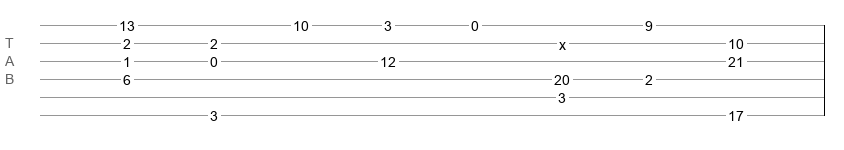0: (210, 54, 218, 64), (471, 18, 479, 28)
1: (123, 54, 131, 64)
10: (293, 18, 309, 28), (728, 36, 744, 46)
12: (380, 54, 396, 64)
13: (119, 18, 135, 28)
17: (728, 108, 744, 118)
2: (123, 36, 131, 46), (210, 36, 218, 46), (645, 72, 653, 82)
20: (554, 72, 570, 82)
21: (728, 54, 744, 64)
3: (210, 108, 218, 118), (384, 18, 392, 28), (558, 90, 566, 100)
6: (123, 72, 131, 82)
9: (645, 18, 653, 28)
x: (559, 37, 566, 45)
